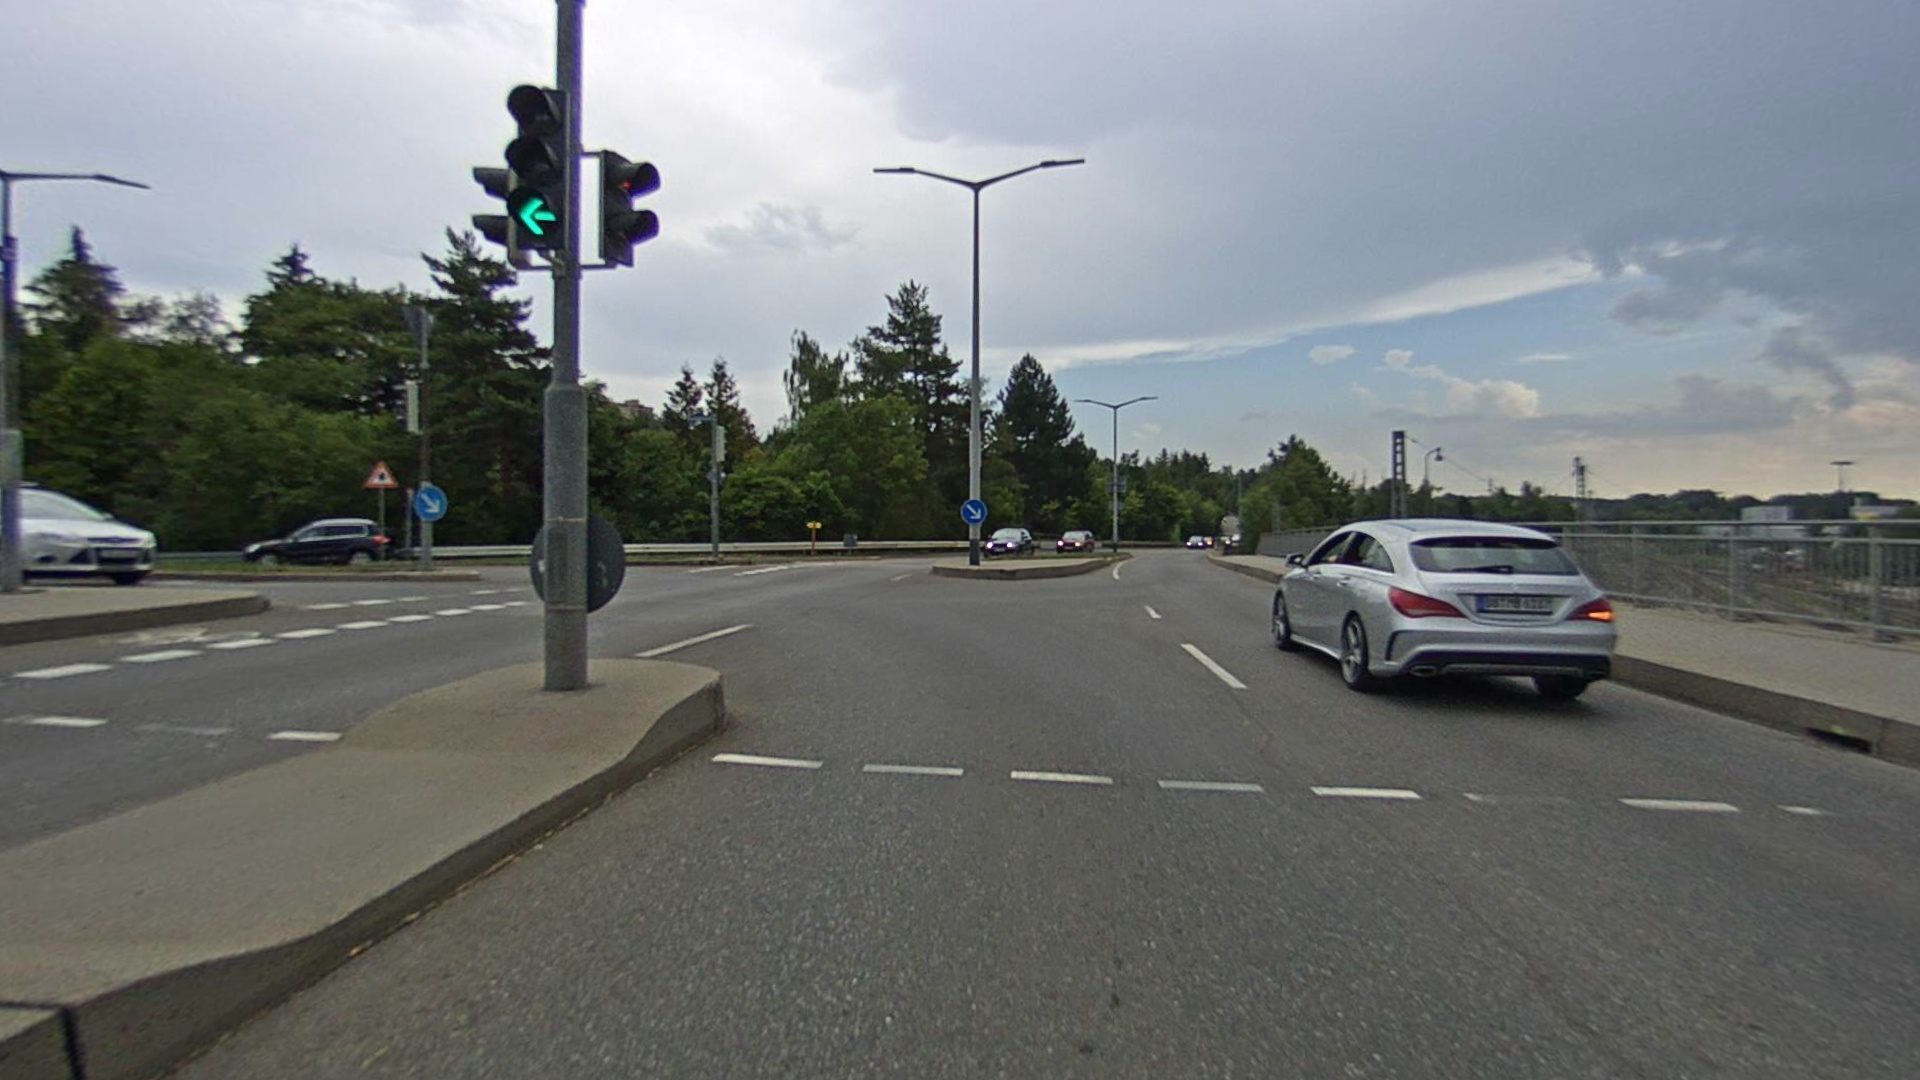car: (1267, 517, 1622, 708)
